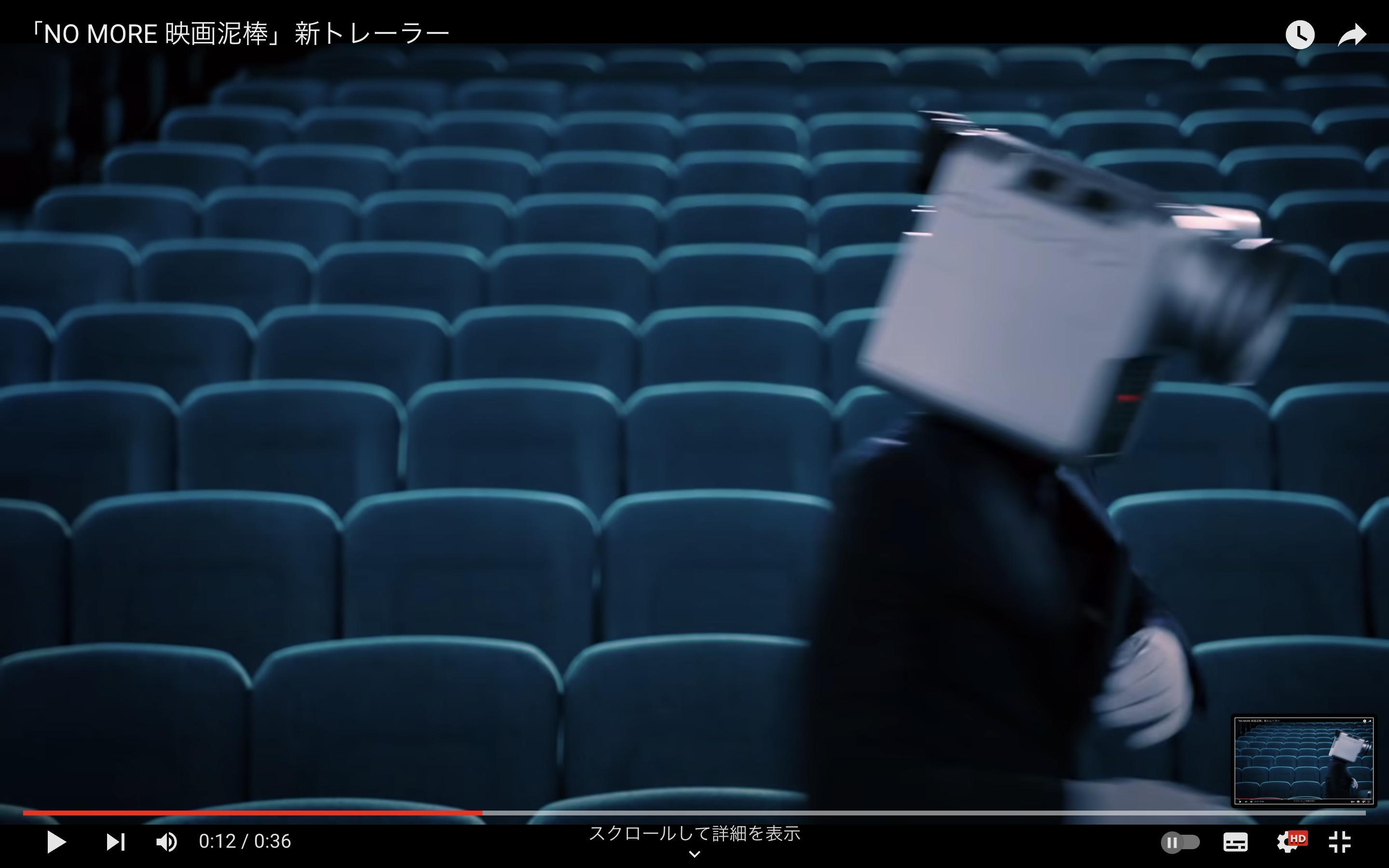no more kid: (826, 74, 1309, 505)
